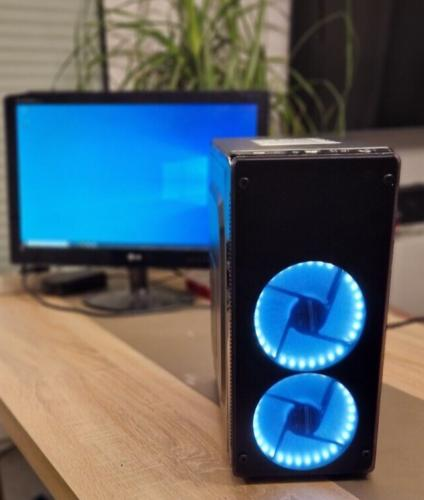DESKTOP PC: (212, 136, 408, 485)
Monitors: (4, 85, 273, 279)
